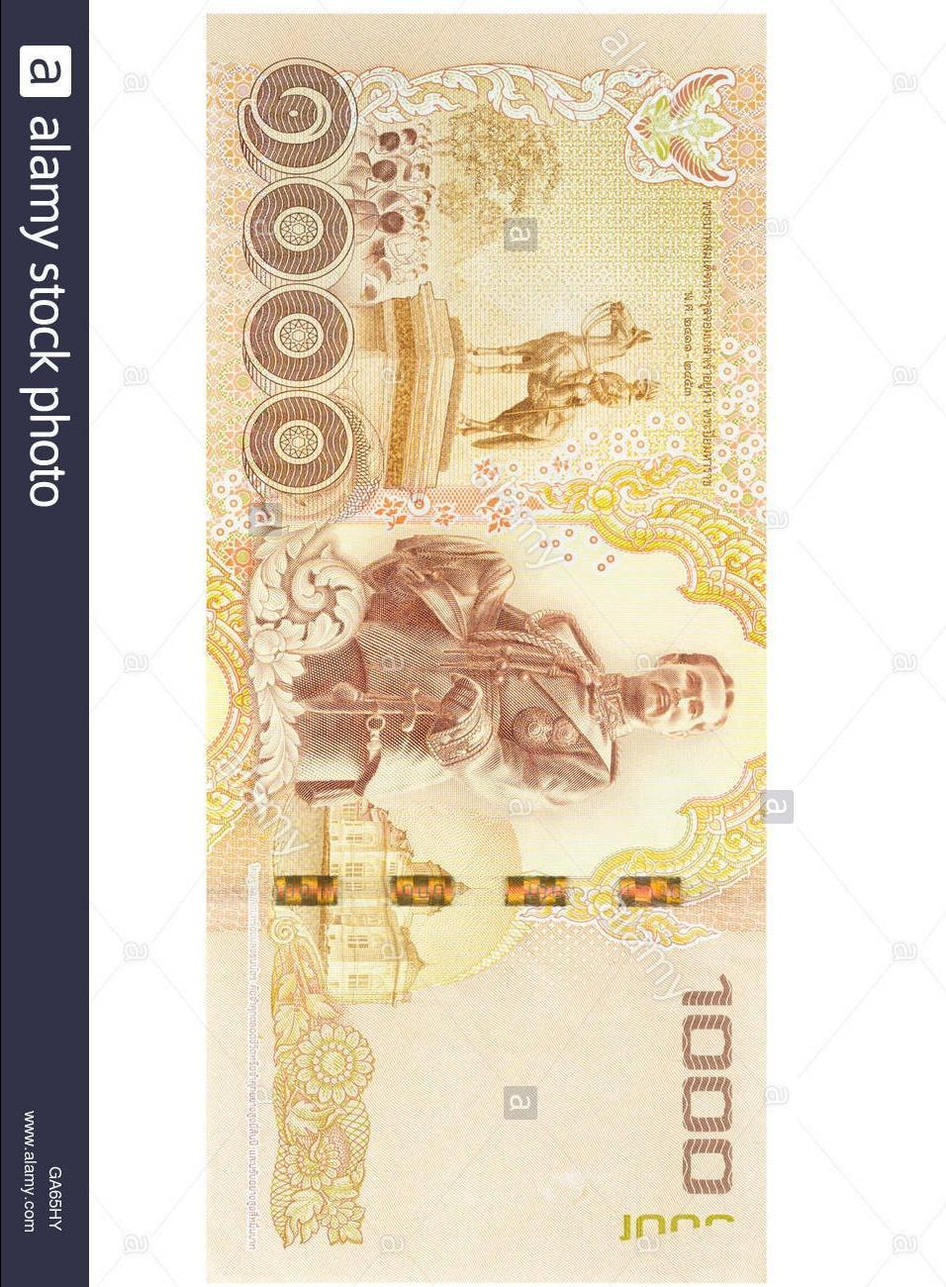1000BahtTai: (209, 13, 768, 1287)
